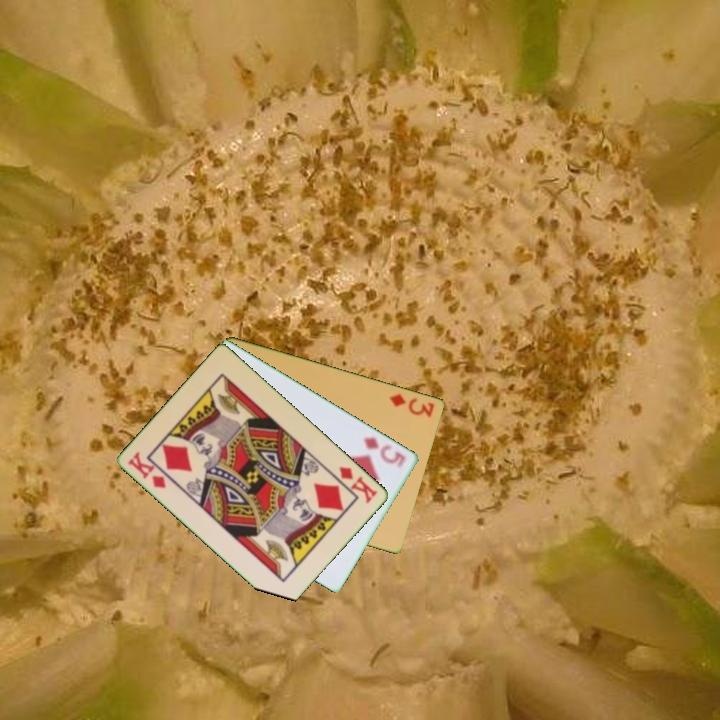3d: (385, 390, 438, 420)
5d: (360, 433, 409, 470)
Kd: (336, 463, 381, 506), (124, 448, 169, 491)
